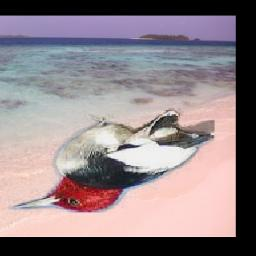Woodpecker: (8, 109, 215, 214)
